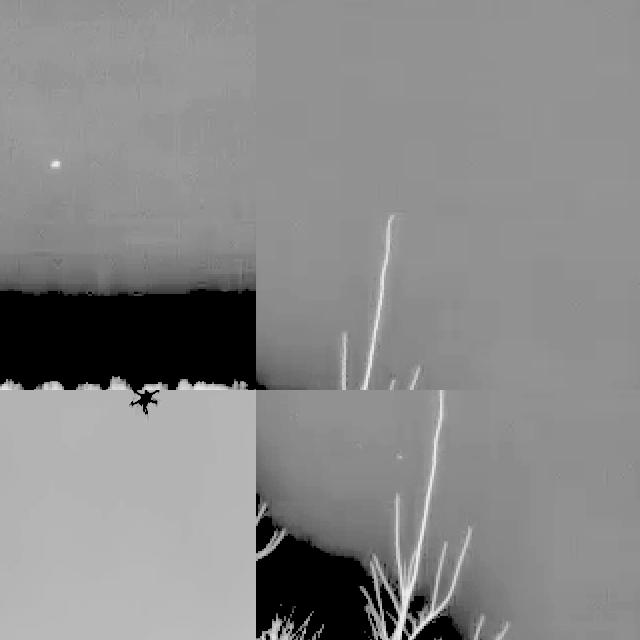0: (390, 446, 412, 468)
1: (45, 154, 73, 182)
drone: (126, 390, 164, 419)
